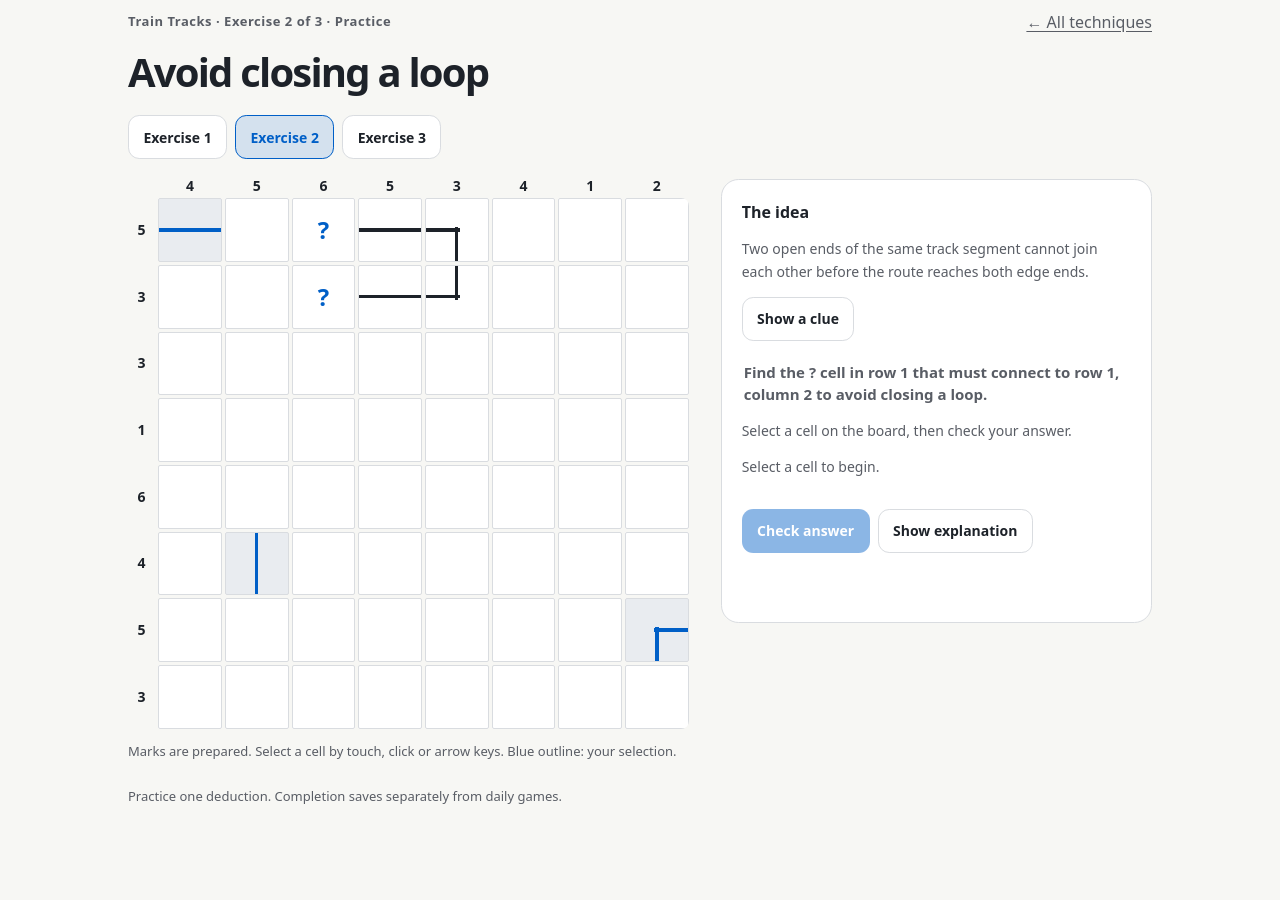
Test: checks a Train Tracks loop exercise without changing daily progress
Click the 1st cell "?": x=323, y=230 left=292, top=198, right=355, bottom=262
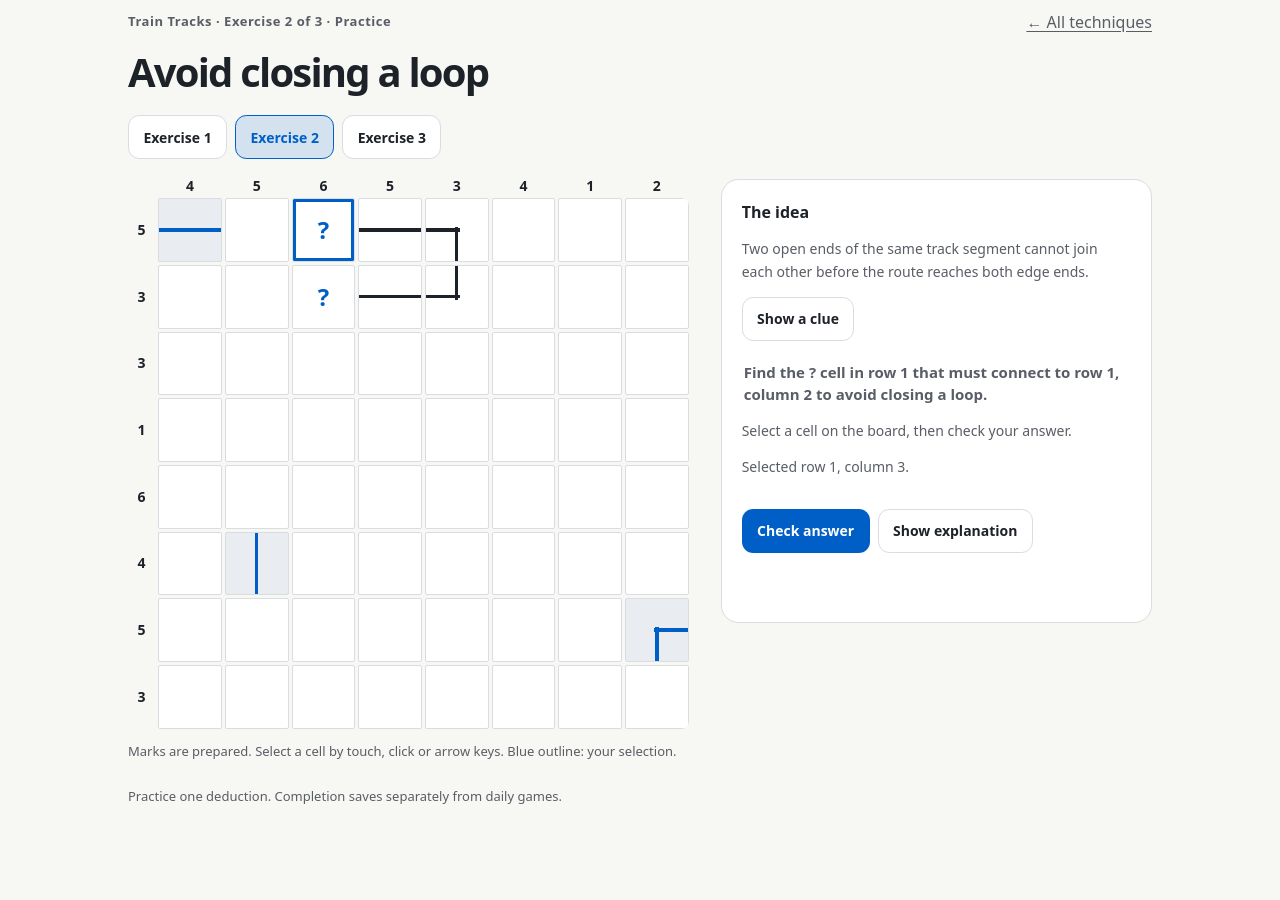
Click the button "Check answer": x=806, y=531 left=742, top=509, right=870, bottom=553
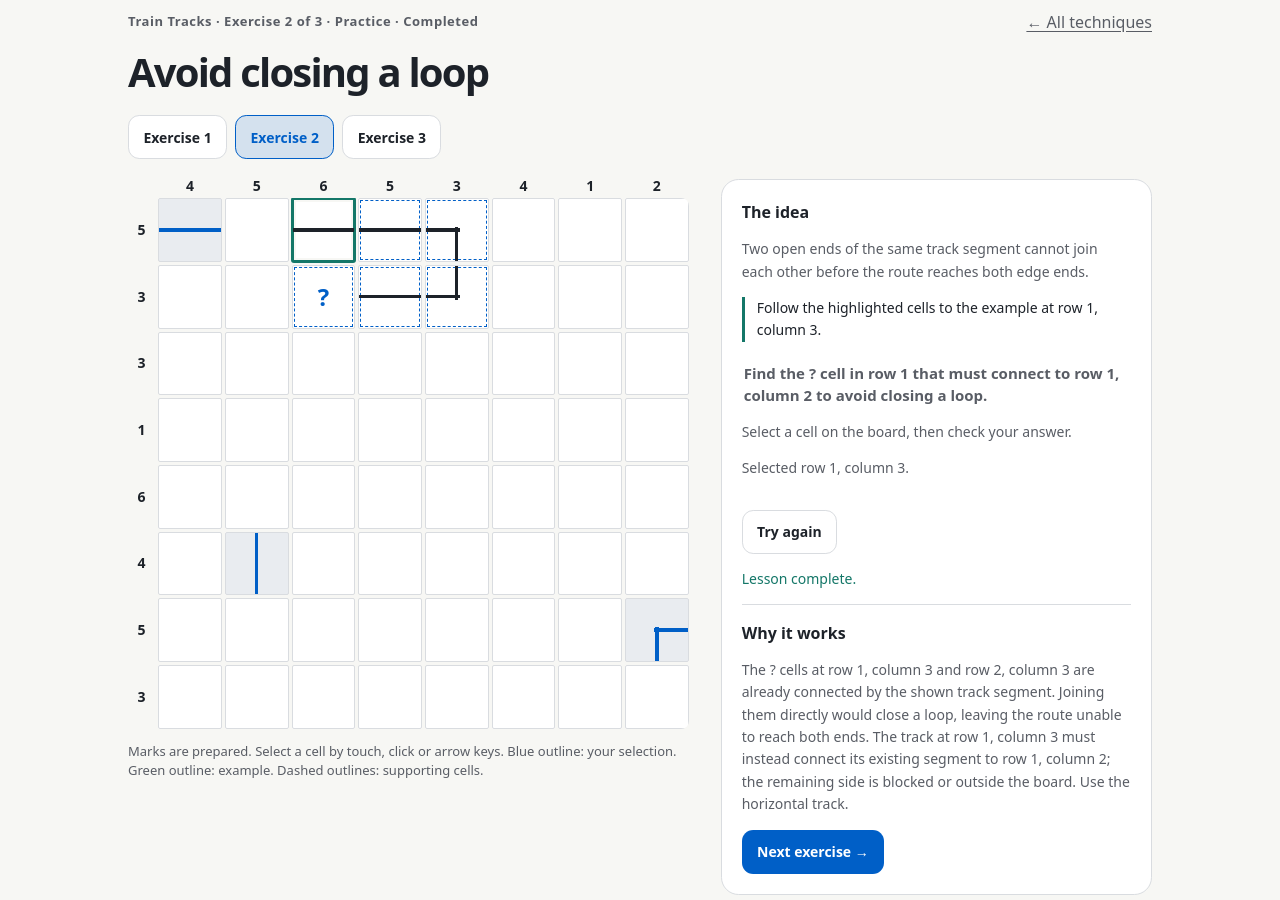
Check: the message "Lesson complete." is shown, box left=742, top=568, right=856, bottom=588
